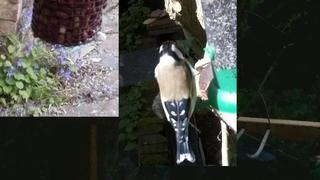goldfinch: (154, 40, 197, 164)
